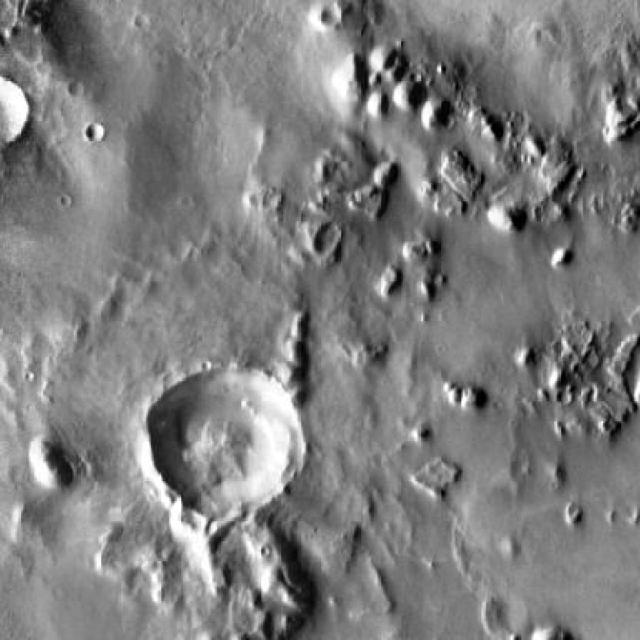crater: (152, 368, 302, 518), (0, 78, 34, 148), (312, 227, 341, 256), (314, 4, 334, 24), (67, 79, 84, 96), (88, 125, 104, 141)
